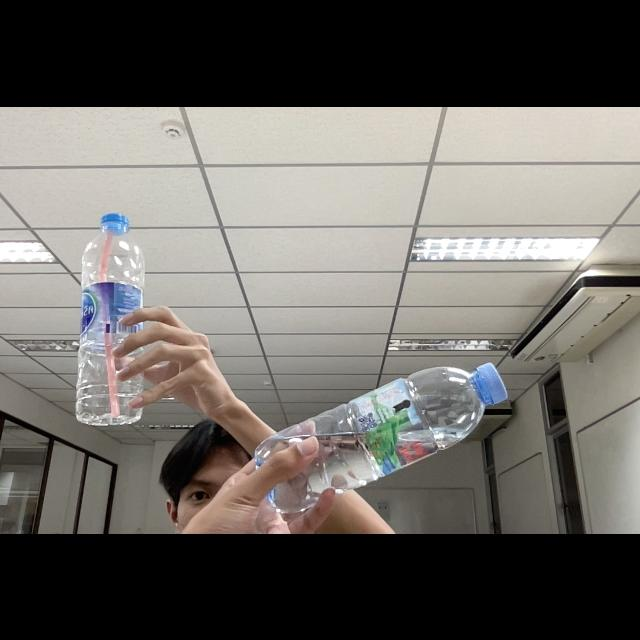plastic_bottle: (242, 348, 516, 518), (72, 194, 154, 436)
plastic_bottle_cap: (474, 362, 506, 404), (97, 211, 131, 235)
straw: (98, 232, 122, 416)
